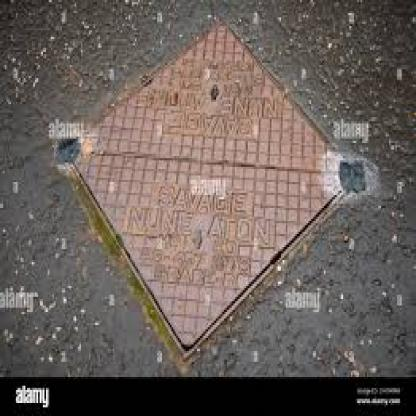closed manhole-not overflowing-: (69, 24, 352, 356)
